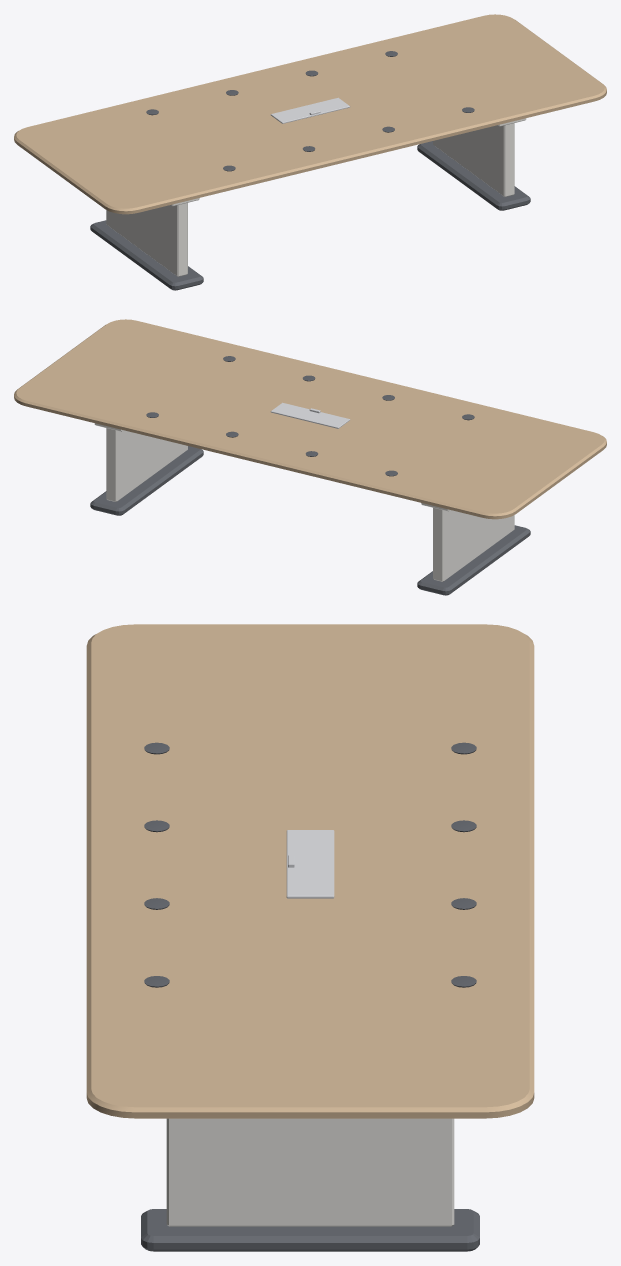
File: downtown-office-interiors-boardroom-table-12-f45f2bb7__17014.glb
The picture shows the model from 3 angles, top to bottom: view 1: azimuth 30°, elevation 25°; view 2: azimuth 150°, elevation 25°; view 3: azimuth 270°, elevation 25°; orthographic projection. The views are drawn at different scales.
Parts seen in each view (by area): view 1: boardroom-table-12, cable-lid; view 2: boardroom-table-12, cable-lid; view 3: boardroom-table-12, cable-lid.
Boxes of the visible parts, x1,y1,x2,y2 form: boardroom-table-12: (14, 14, 606, 290); cable-lid: (270, 97, 350, 123); boardroom-table-12: (14, 319, 606, 595); cable-lid: (270, 402, 350, 428); boardroom-table-12: (86, 624, 534, 1251); cable-lid: (286, 830, 334, 898).
Bounding box in the file's own units: 3.6 × 0.752 × 1.4.
